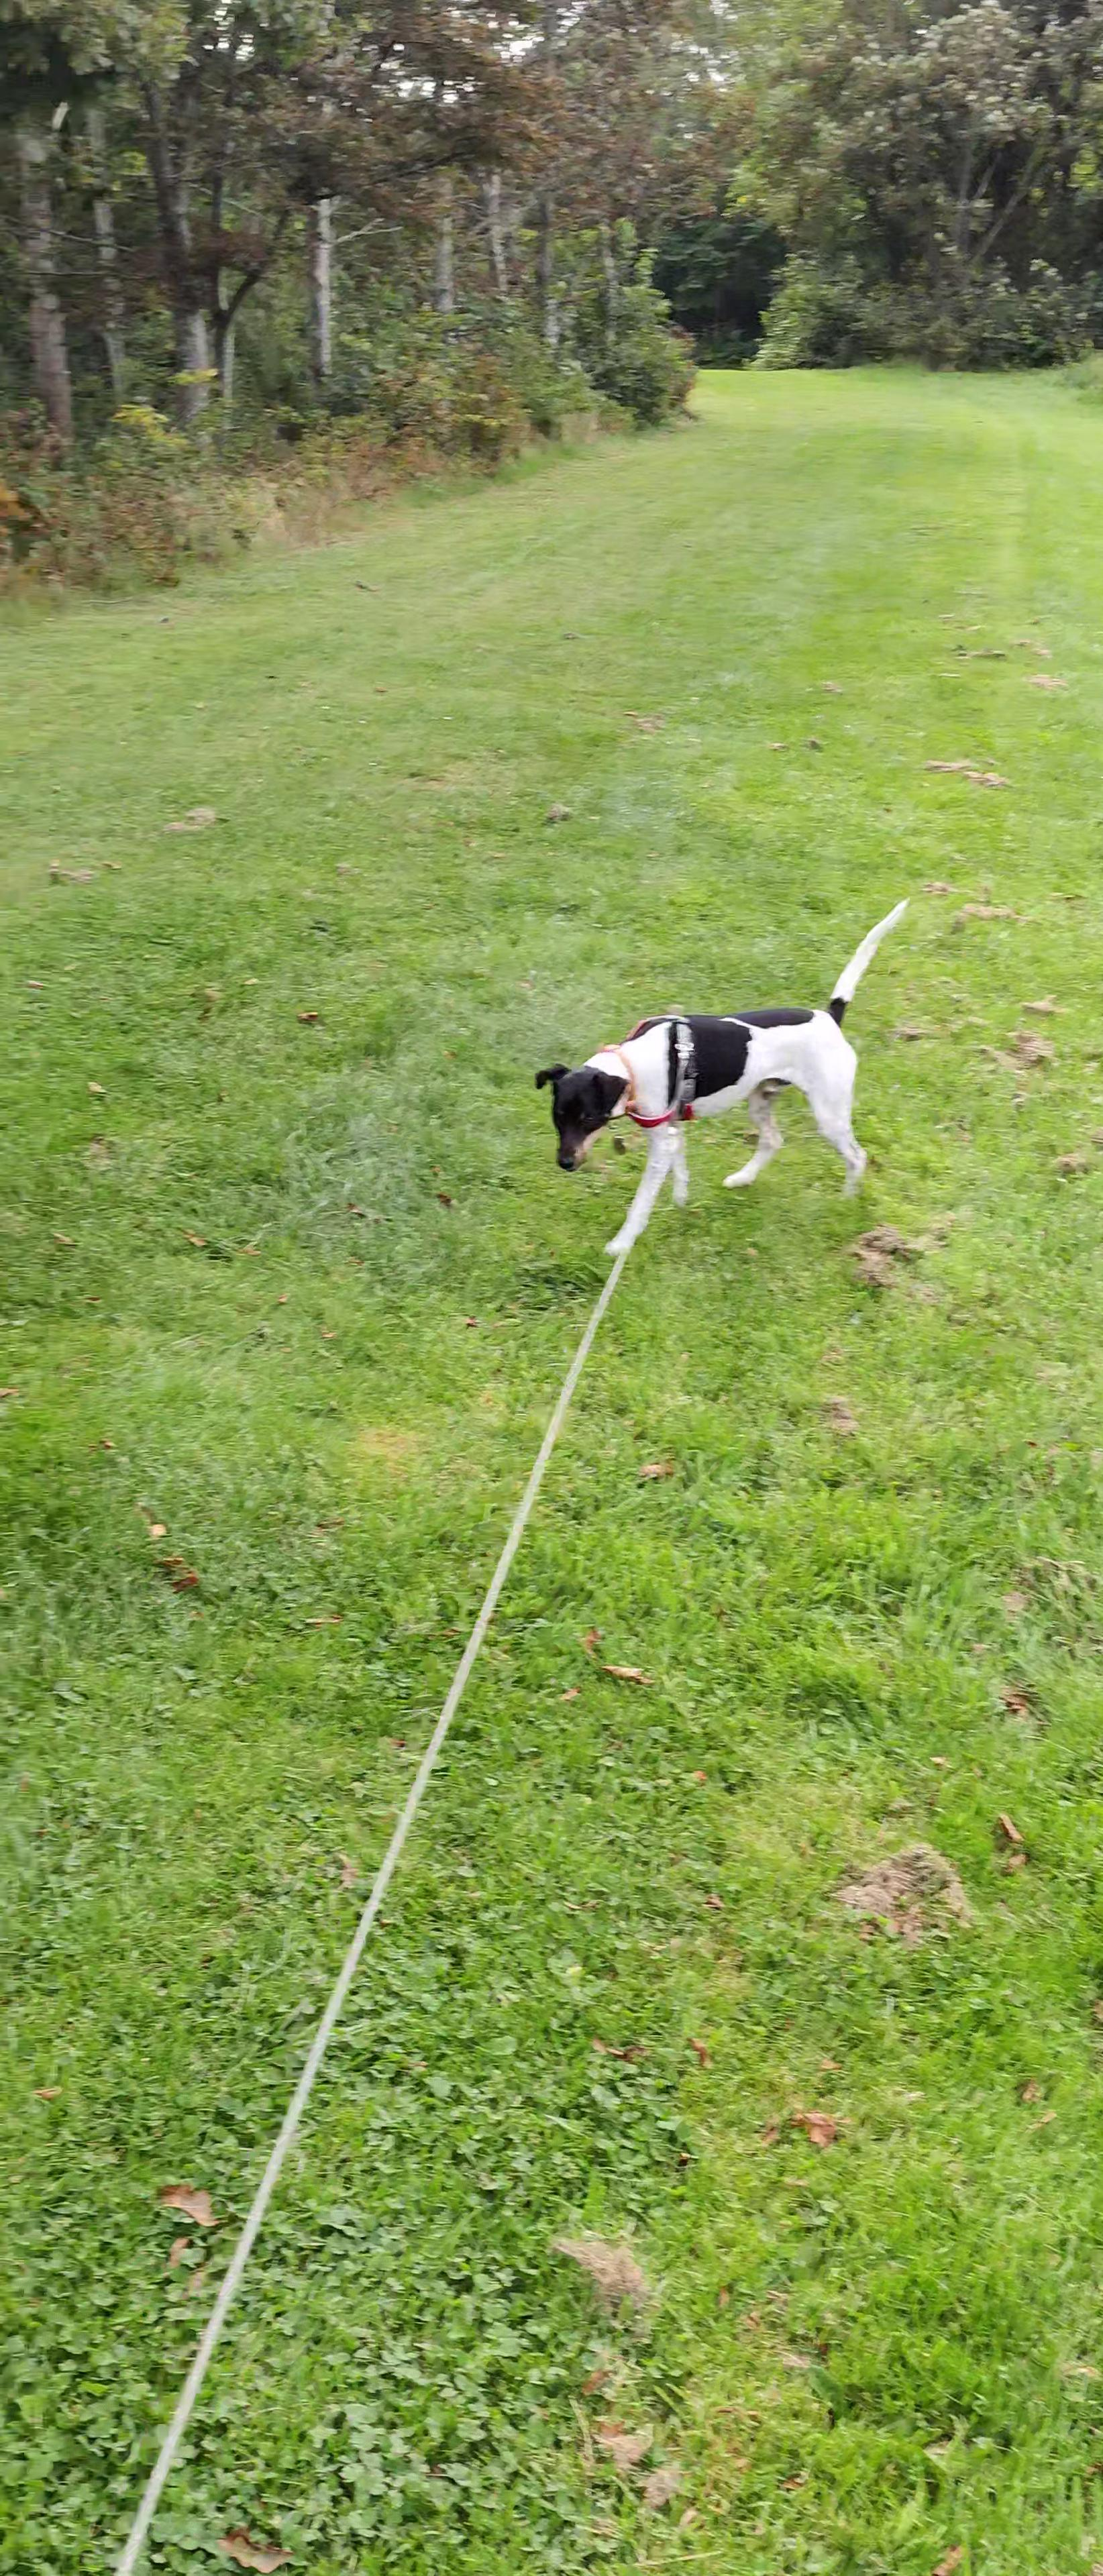Dog: (531, 892, 914, 1260)
